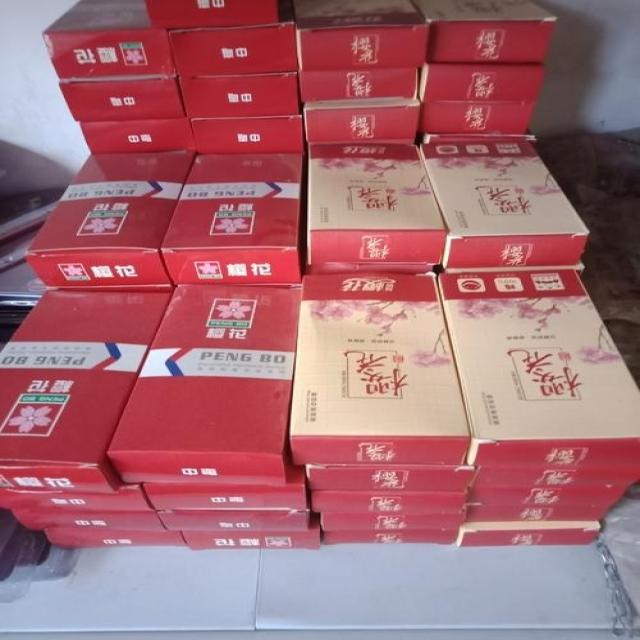box: (436, 268, 640, 467), (105, 286, 298, 486), (288, 272, 472, 466), (0, 289, 172, 493), (23, 153, 196, 287), (417, 140, 590, 270), (160, 154, 303, 285), (307, 142, 447, 264), (41, 0, 174, 80), (293, 0, 430, 71), (410, 0, 558, 62), (143, 464, 307, 510), (166, 22, 297, 75), (59, 74, 184, 123), (177, 72, 300, 118), (417, 63, 547, 102), (180, 516, 320, 551), (306, 464, 476, 492), (191, 115, 305, 154), (300, 68, 419, 104), (1, 484, 155, 511), (81, 118, 197, 153), (456, 521, 602, 547), (471, 466, 640, 487), (417, 102, 535, 132), (310, 491, 467, 513), (12, 510, 168, 532), (156, 511, 308, 531), (467, 488, 630, 506), (45, 530, 188, 550), (320, 513, 465, 531), (465, 506, 614, 522), (323, 531, 460, 544)
